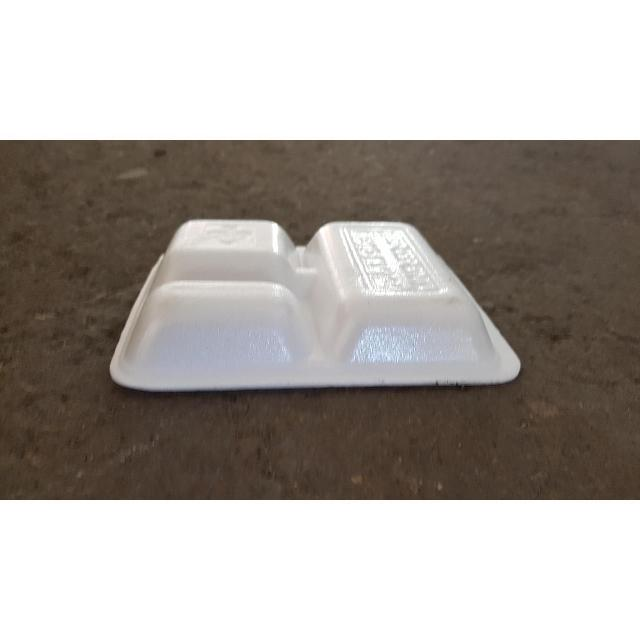Plastico descartable: (108, 220, 522, 396)
